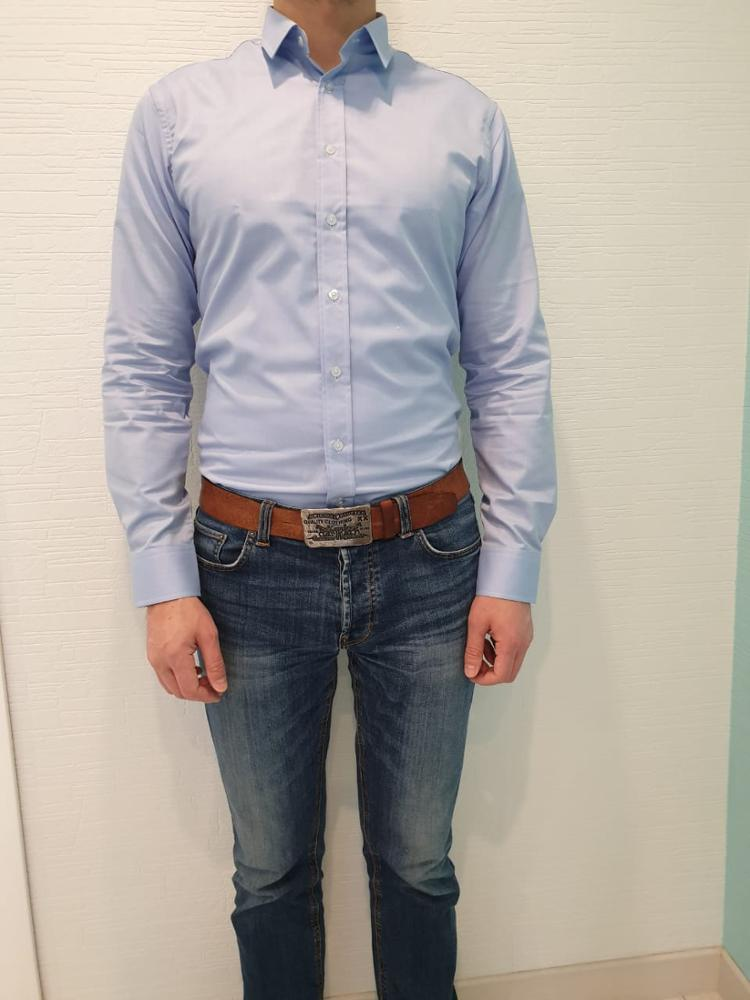shirts: (101, 9, 558, 611)
